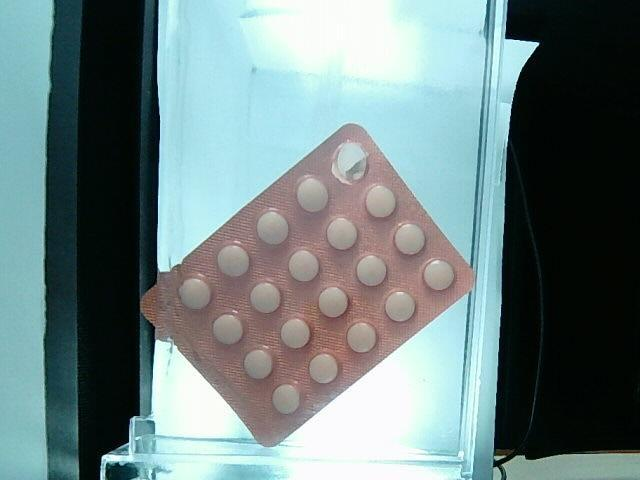Light Front: (141, 124, 473, 446)
No Pill Front: (331, 141, 367, 184)
Pill Front: (256, 211, 288, 244), (296, 178, 327, 212), (179, 278, 211, 309), (218, 245, 249, 276), (366, 185, 396, 217), (395, 223, 425, 255), (289, 250, 319, 281), (329, 218, 359, 249), (213, 314, 243, 344), (356, 255, 386, 285), (424, 260, 454, 290), (385, 291, 415, 321), (281, 318, 309, 349), (251, 283, 279, 313), (348, 323, 376, 353), (309, 354, 337, 383), (319, 288, 347, 317), (244, 350, 272, 378), (272, 384, 298, 414)
